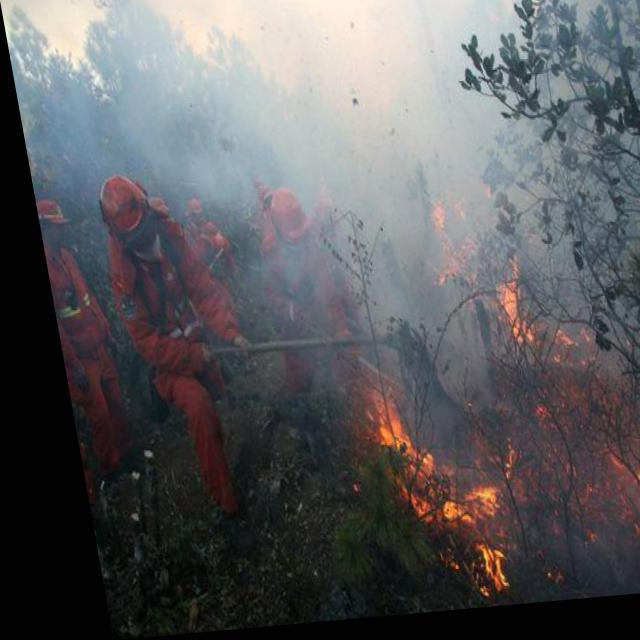Fire: (340, 368, 496, 606), (476, 260, 528, 352), (619, 447, 639, 580)
